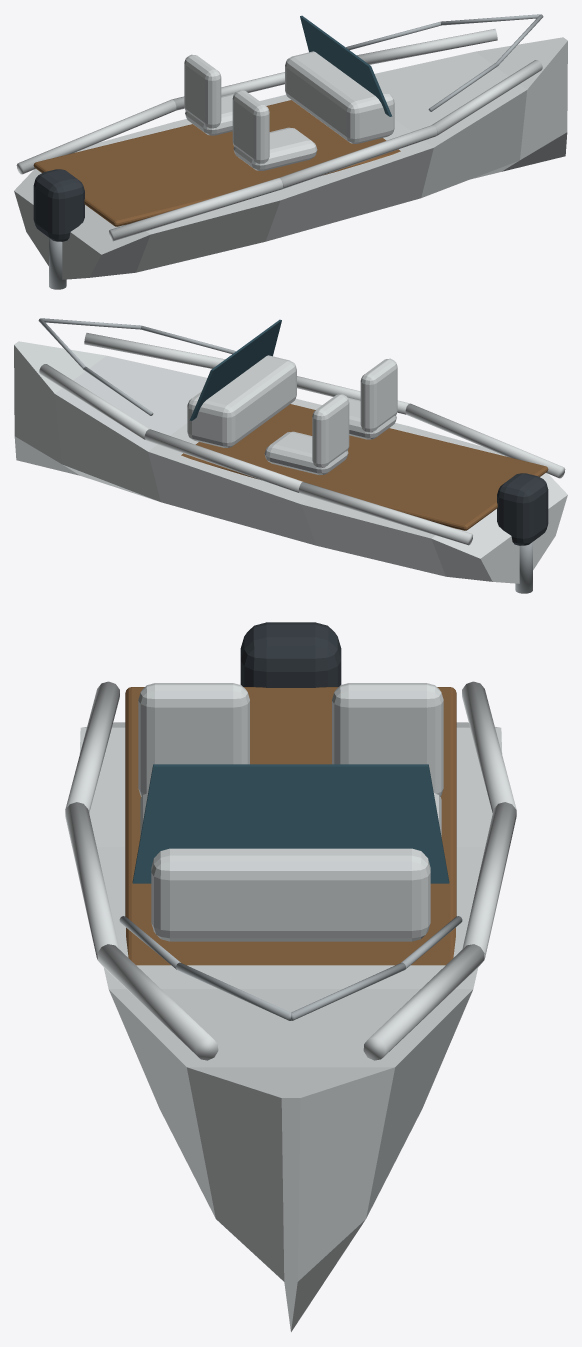
File: SM_Boat.fbx
The picture shows the model from 3 angles, top to bottom: view 1: azimuth 30°, elevation 25°; view 2: azimuth 150°, elevation 25°; view 3: azimuth 270°, elevation 25°; orthographic projection. The views are drawn at different scales.
Parts seen in each view (by area): view 1: SM_Boat; view 2: SM_Boat; view 3: SM_Boat.
Boxes of the visible parts, x1=… form: SM_Boat: x1=14, y1=14, x2=567, y2=289; SM_Boat: x1=14, y1=318, x2=567, y2=593; SM_Boat: x1=65, y1=622, x2=516, y2=1331.
Bounding box in the file's own units: 650 × 242 × 210.
